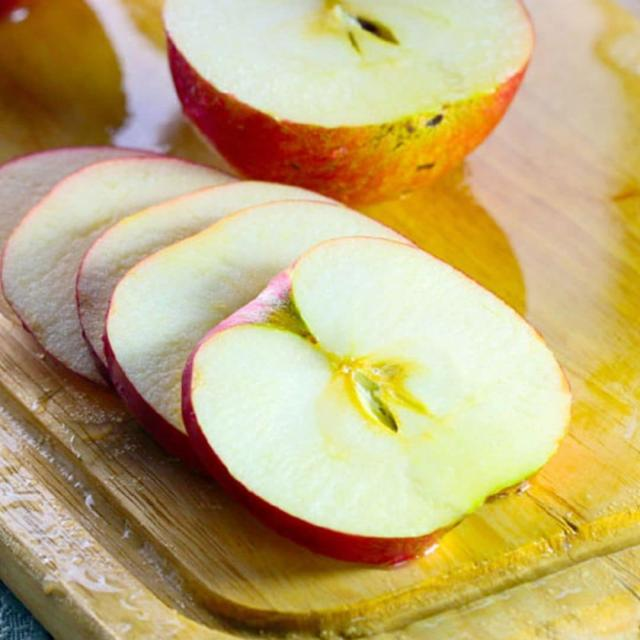manzana: (180, 209, 570, 576)
